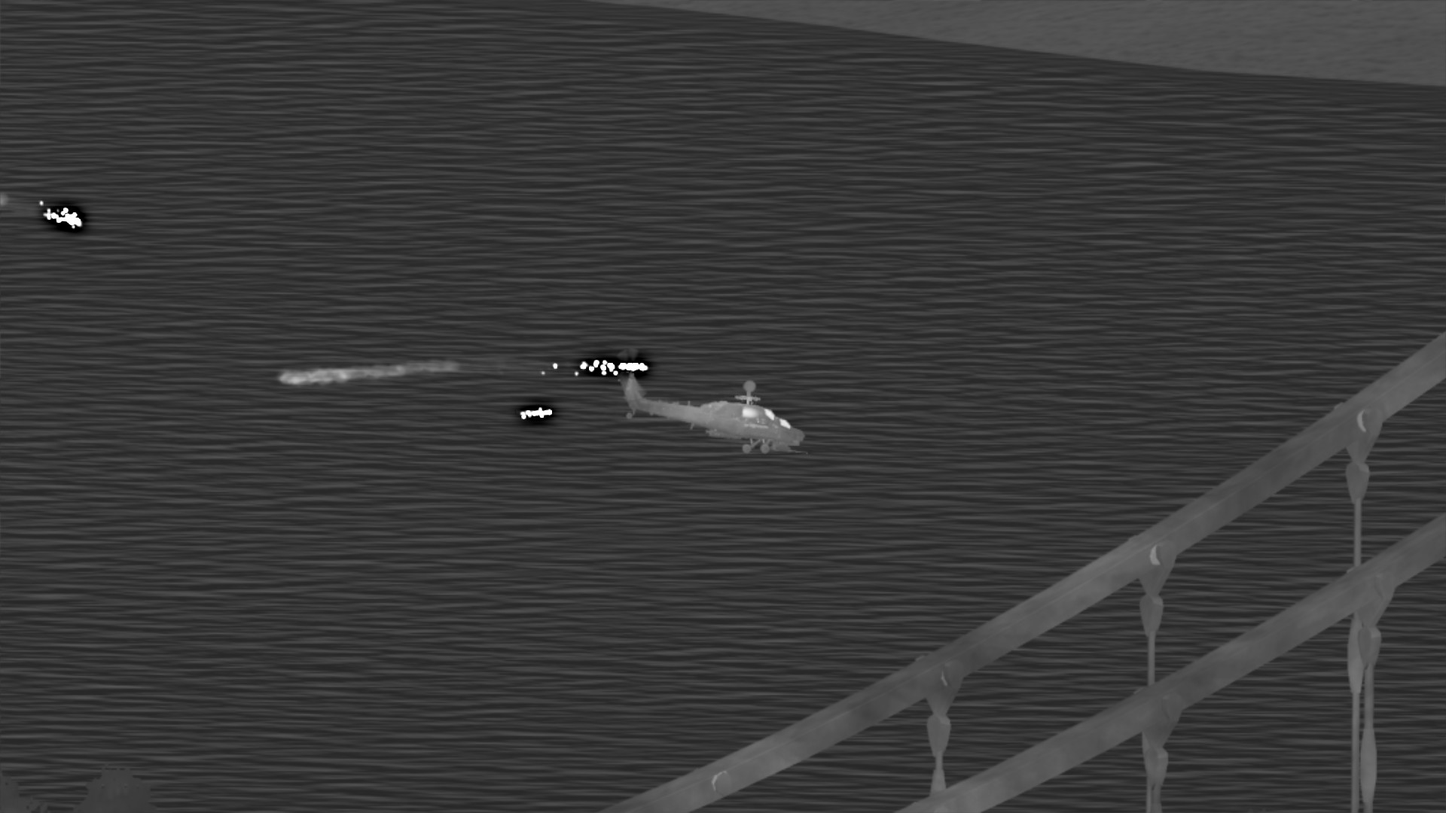mi28: (610, 348, 810, 455)
